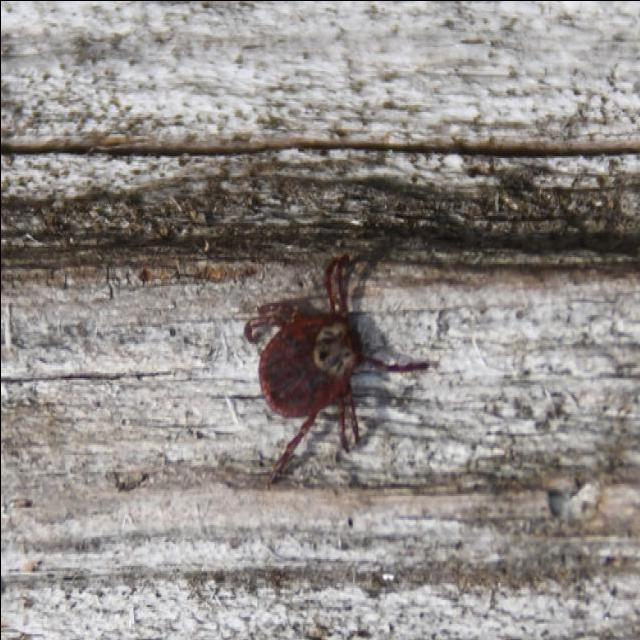Dermacentor Reticulatus-F: (243, 251, 429, 481)
